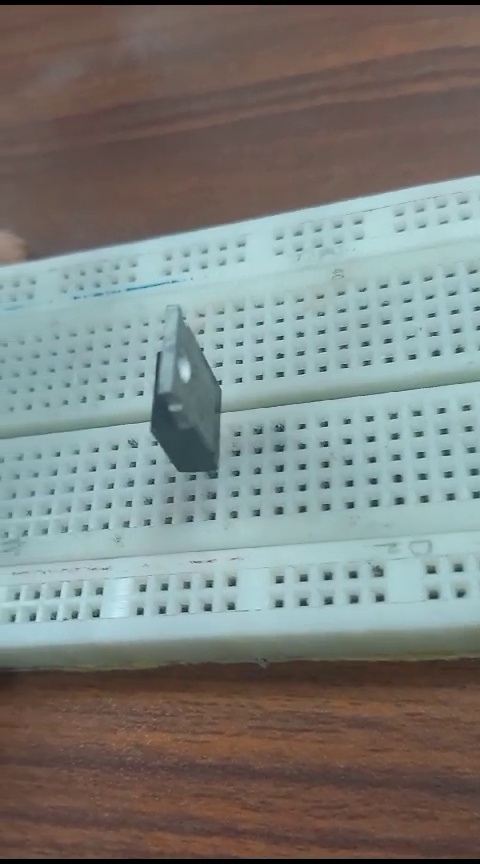voltage regulator: (133, 299, 240, 484)
